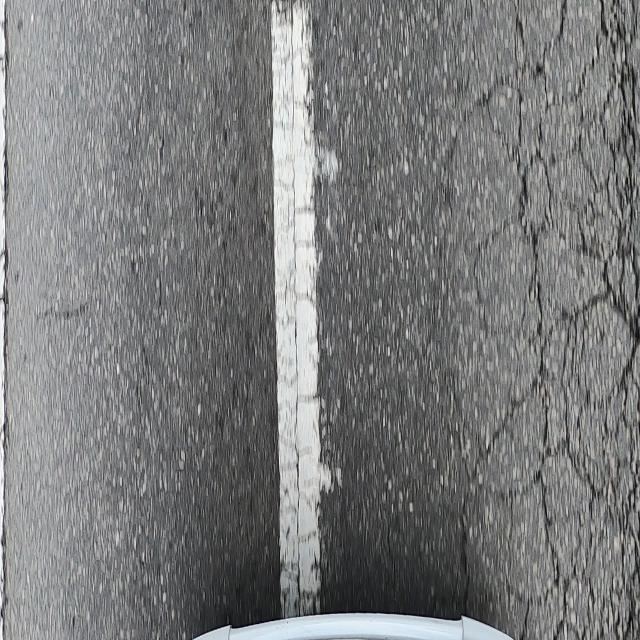Retak-Buaya: (448, 0, 640, 640)
